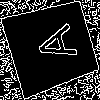A: (25, 21, 78, 68)
